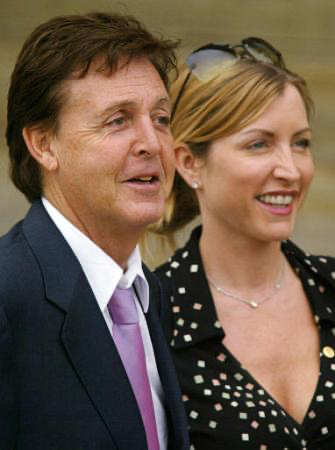Face: (53, 57, 184, 239), (207, 95, 319, 247)
